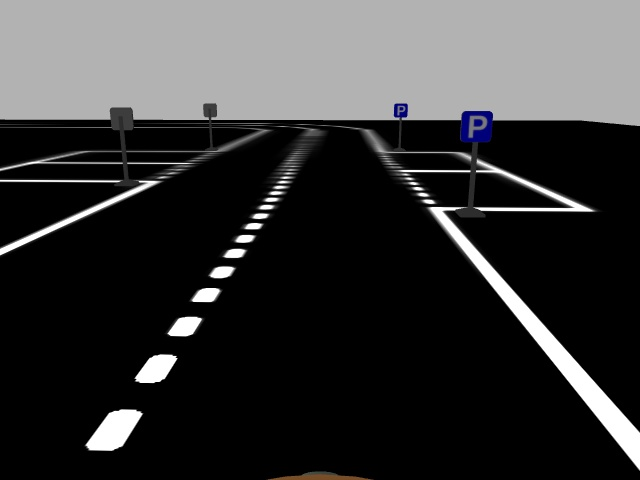parking: (459, 109, 492, 141), (393, 103, 408, 117)
